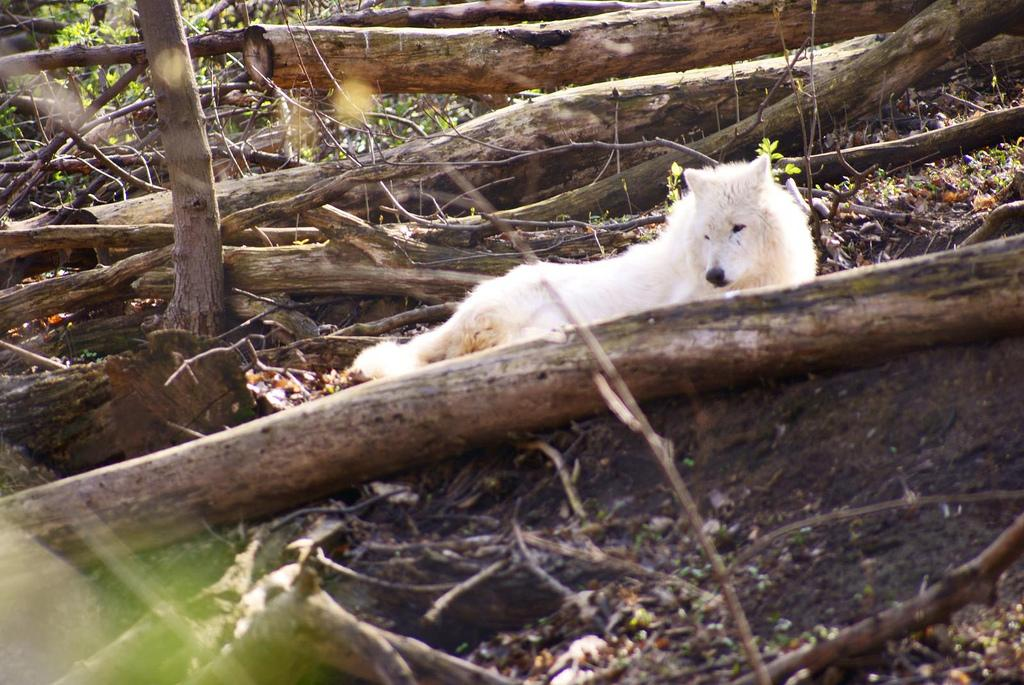Wolf: (345, 151, 816, 386)
